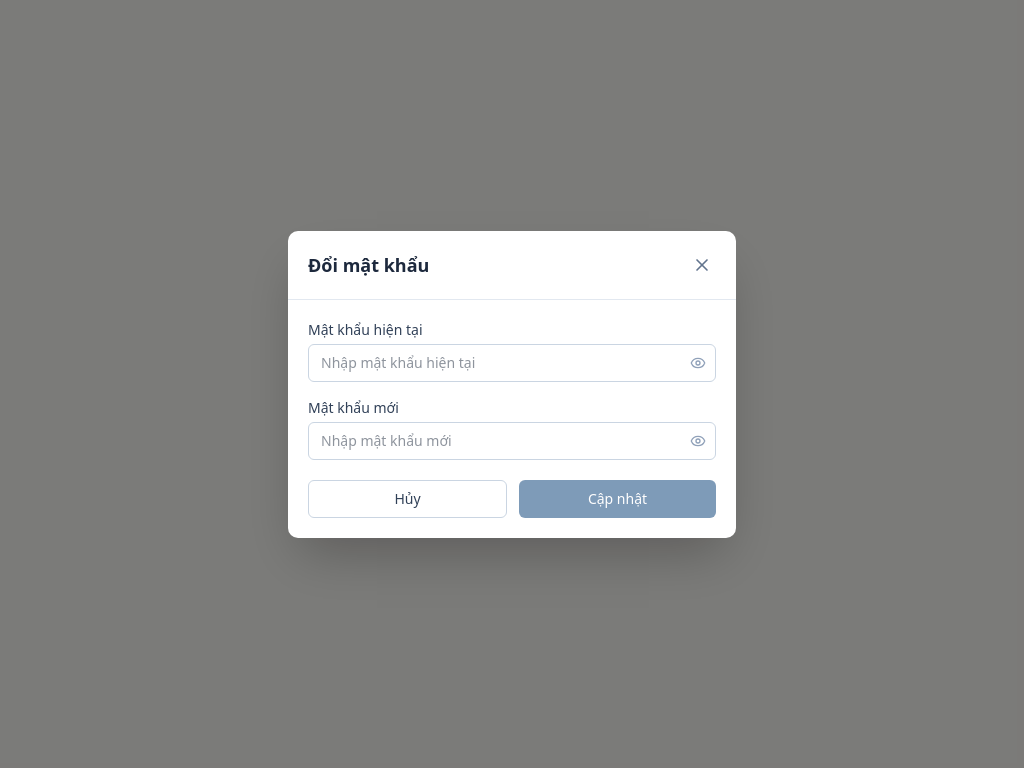
Scenario: ChangePasswordModal › shows error message on API failure
This screenshot has width=1024, height=768.
In the password field with placeholder "Nhập mật khẩu hiện tại": (512, 362) [308, 344, 716, 382], type "CurrentPass"
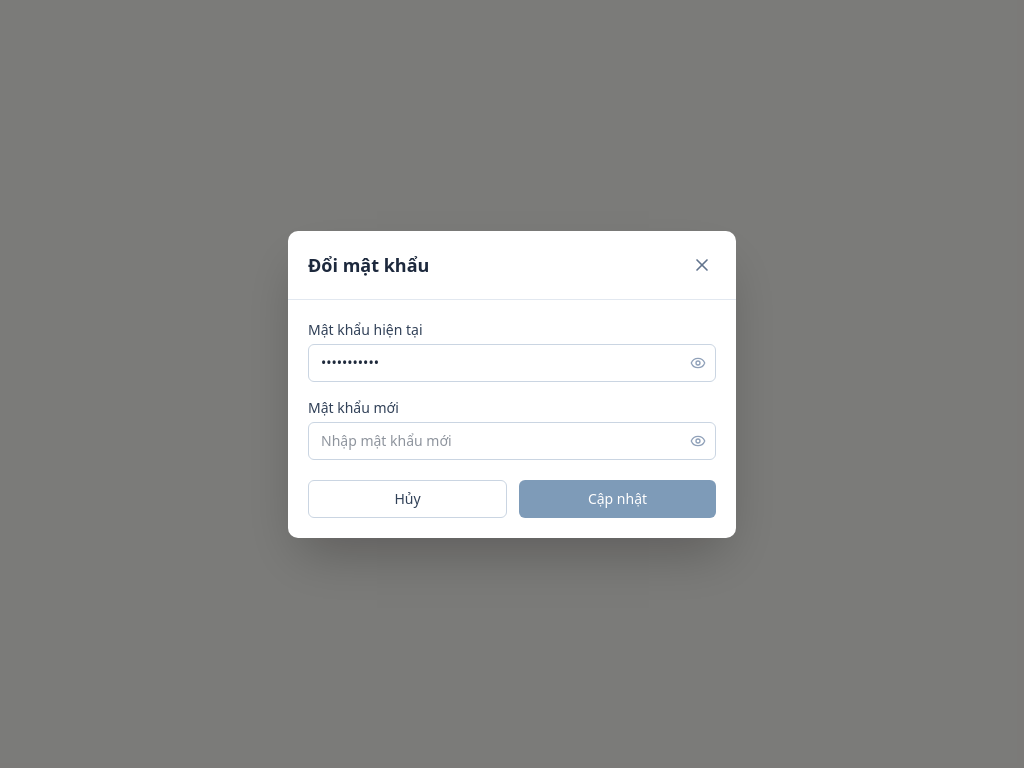
In the password field with placeholder "Nhập mật khẩu mới": (512, 440) [308, 422, 716, 460], type "NewPass@123"
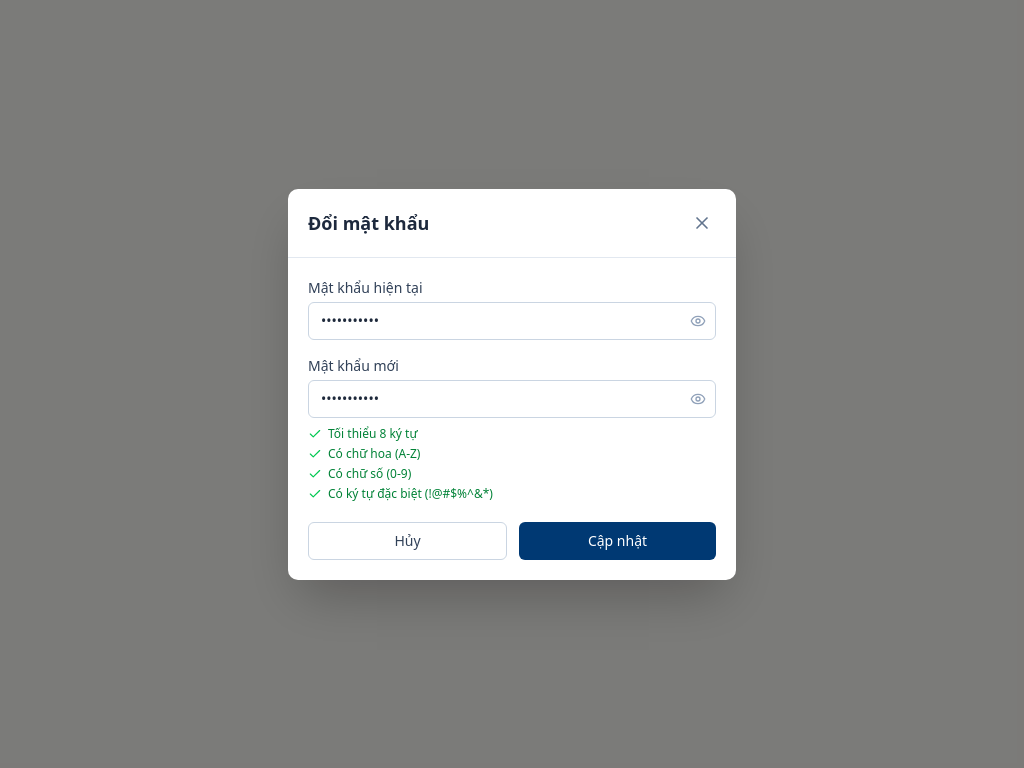
Click the button "Cập nhật": (618, 540) [519, 522, 716, 560]
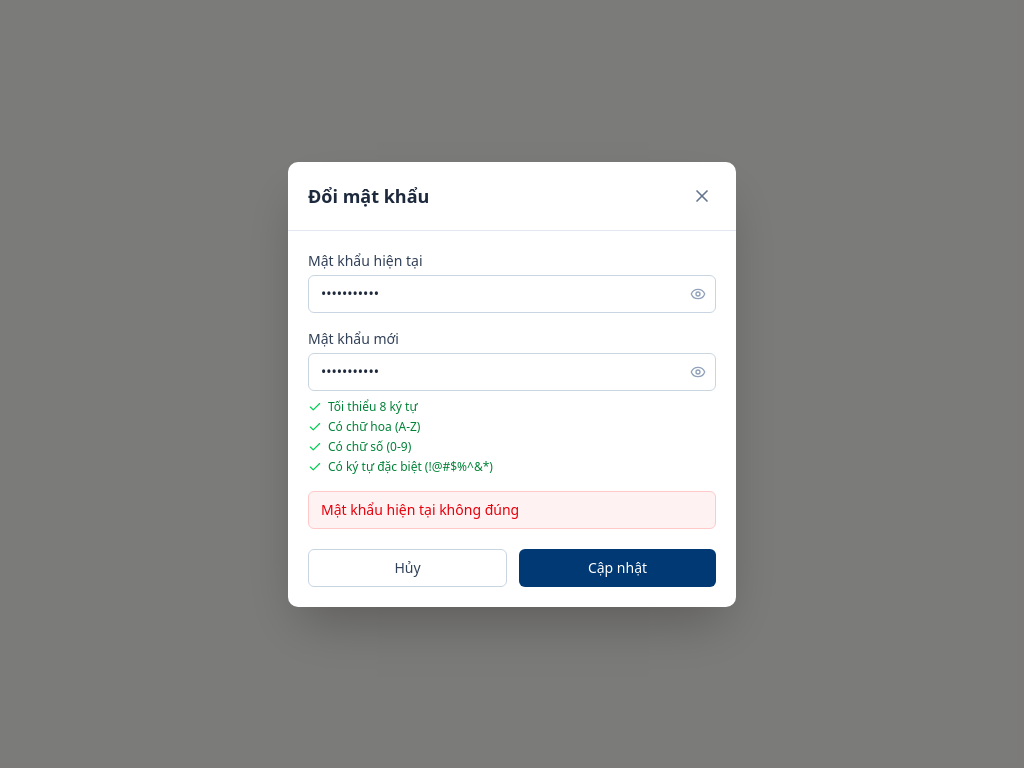
Expected: the text "Mật khẩu hiện tại không đúng" is shown, [308, 490, 716, 528]
